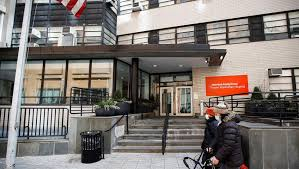mask: (214, 103, 229, 122), (199, 103, 215, 120)
